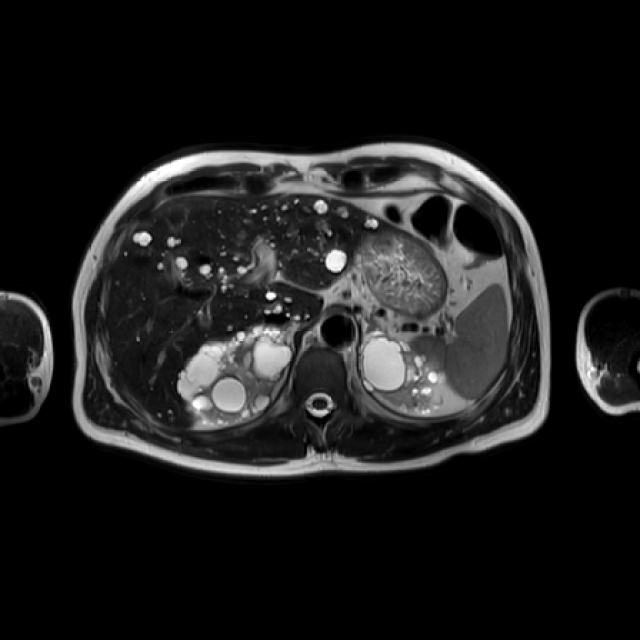sag: (179, 323, 292, 427)
sol: (362, 335, 440, 414)
